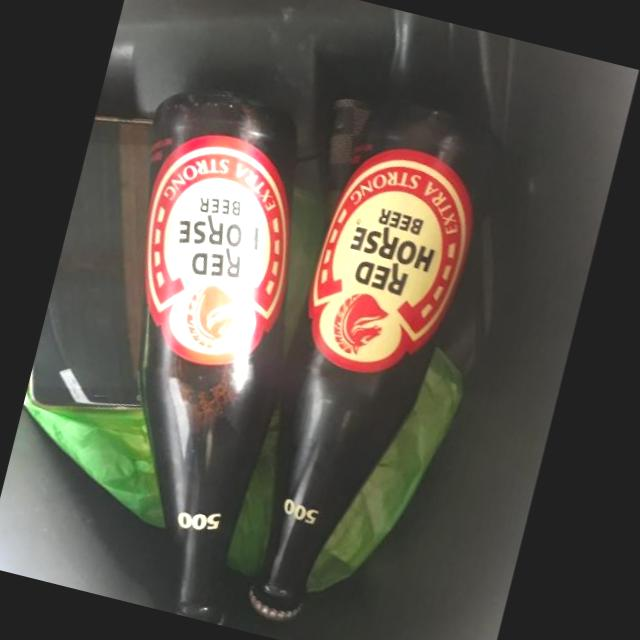chai_thuy_tinh: (249, 93, 491, 619), (139, 84, 297, 625)
